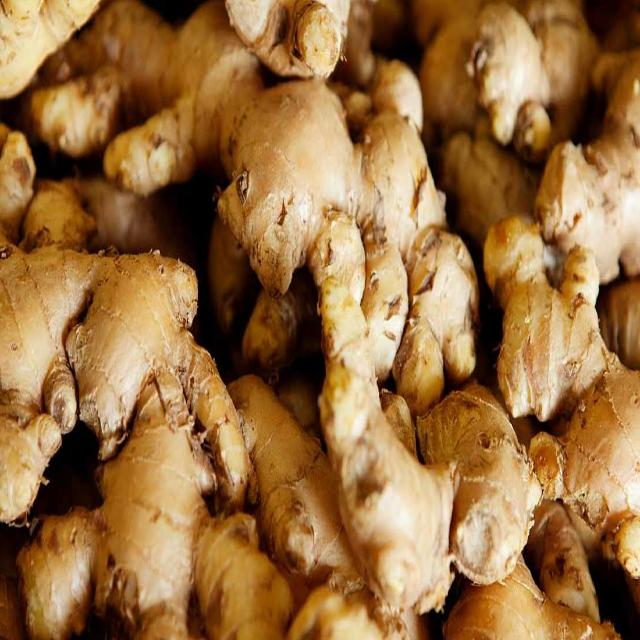Ginger: (475, 17, 640, 593), (21, 316, 289, 640), (193, 19, 452, 324), (330, 355, 549, 623), (0, 7, 183, 294), (0, 230, 211, 438)
